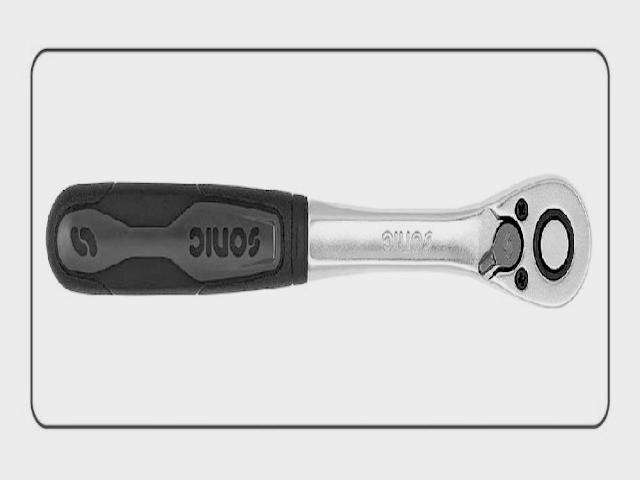Ratchet: (46, 178, 591, 307)
